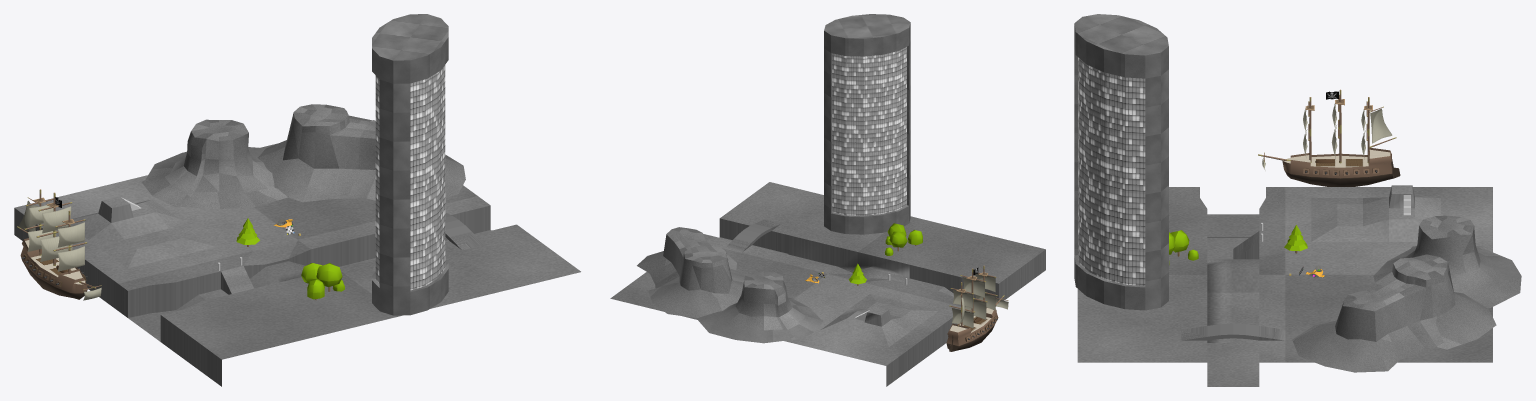
The picture shows the model from 3 angles, left to right: view 1: azimuth 30°, elevation 25°; view 2: azimuth 150°, elevation 25°; view 3: azimuth 270°, elevation 25°; orthographic projection. The views are drawn at different scales.
Visible parts, largest first — view 1: ground_nocast_collideMesh, building_collideCylinder, table_collideMesh, mesa_collideMesh, Hull_collideMesh, SquareSail.3, SquareSail, SquareSail.1, tree_collideCylinder.001; view 2: ground_nocast_collideMesh, building_collideCylinder, table_collideMesh, mesa_collideMesh, Hull_collideMesh; view 3: ground_nocast_collideMesh, building_collideCylinder, table_collideMesh, mesa_collideMesh, Hull_collideMesh, SquareSail.6.
Part boxes in pixels (box(x1,y1,x2,y2)): ground_nocast_collideMesh: box(14, 120, 580, 386); building_collideCylinder: box(372, 14, 448, 315); table_collideMesh: box(257, 104, 465, 202); mesa_collideMesh: box(141, 119, 287, 209); Hull_collideMesh: box(20, 238, 87, 299); SquareSail.3: box(42, 206, 71, 233); SquareSail: box(57, 246, 84, 271); SquareSail.1: box(57, 222, 84, 247); tree_collideCylinder.001: box(316, 263, 342, 291); ground_nocast_collideMesh: box(610, 182, 1045, 386); building_collideCylinder: box(824, 14, 910, 234); table_collideMesh: box(637, 227, 744, 317); mesa_collideMesh: box(697, 271, 823, 343); Hull_collideMesh: box(946, 307, 998, 351); ground_nocast_collideMesh: box(1077, 185, 1492, 386); building_collideCylinder: box(1074, 14, 1168, 310); table_collideMesh: box(1292, 254, 1496, 372); mesa_collideMesh: box(1373, 215, 1521, 308); Hull_collideMesh: box(1282, 148, 1393, 186); SquareSail.6: box(1370, 108, 1392, 143).
Size of the model in its own units: 121 by 75.17 by 108.
Materials: 18 (4 with a texture image).
